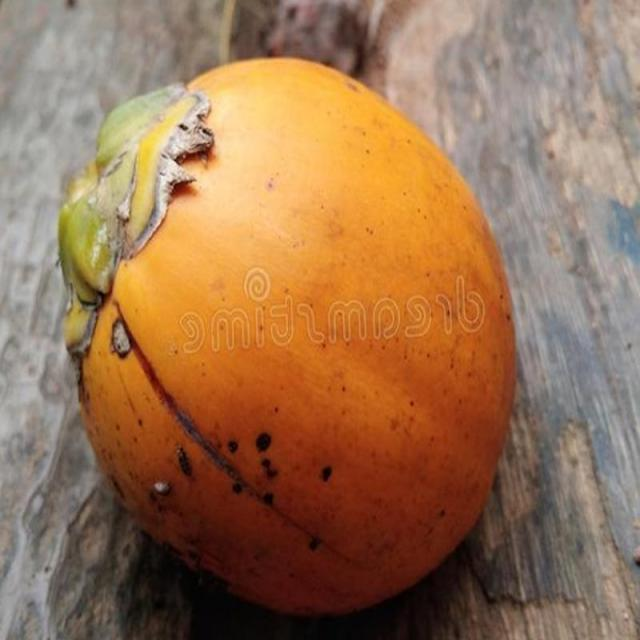good: (57, 58, 518, 636)
